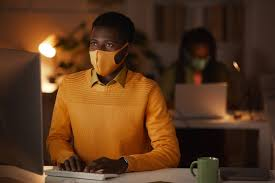mask: (89, 50, 115, 76)
